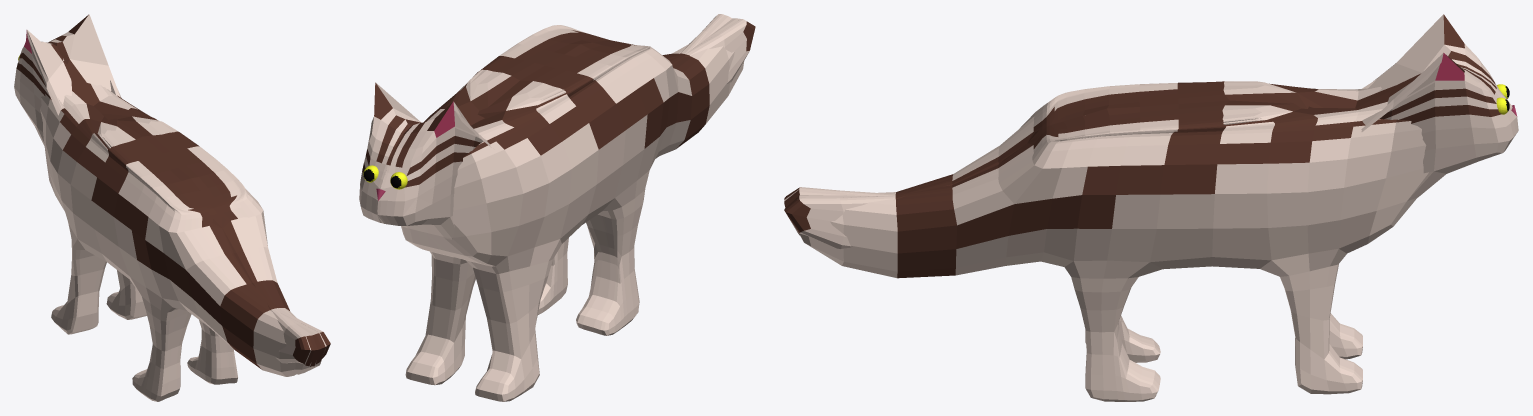
The model's file is Cat.fbx.
3 views of the same model, side by side, from view 1: azimuth 30°, elevation 25°; view 2: azimuth 150°, elevation 25°; view 3: azimuth 270°, elevation 25° (orthographic). The views are drawn at different scales.
Parts seen in each view (by area): view 1: Куб; view 2: Куб; view 3: Куб.
Boxes of the visible parts, x1,y1,x2,y2 form: Куб: (14, 14, 330, 401); Куб: (359, 14, 755, 401); Куб: (784, 14, 1518, 401).
Bounding box in the file's own units: 167 × 385 × 745.
